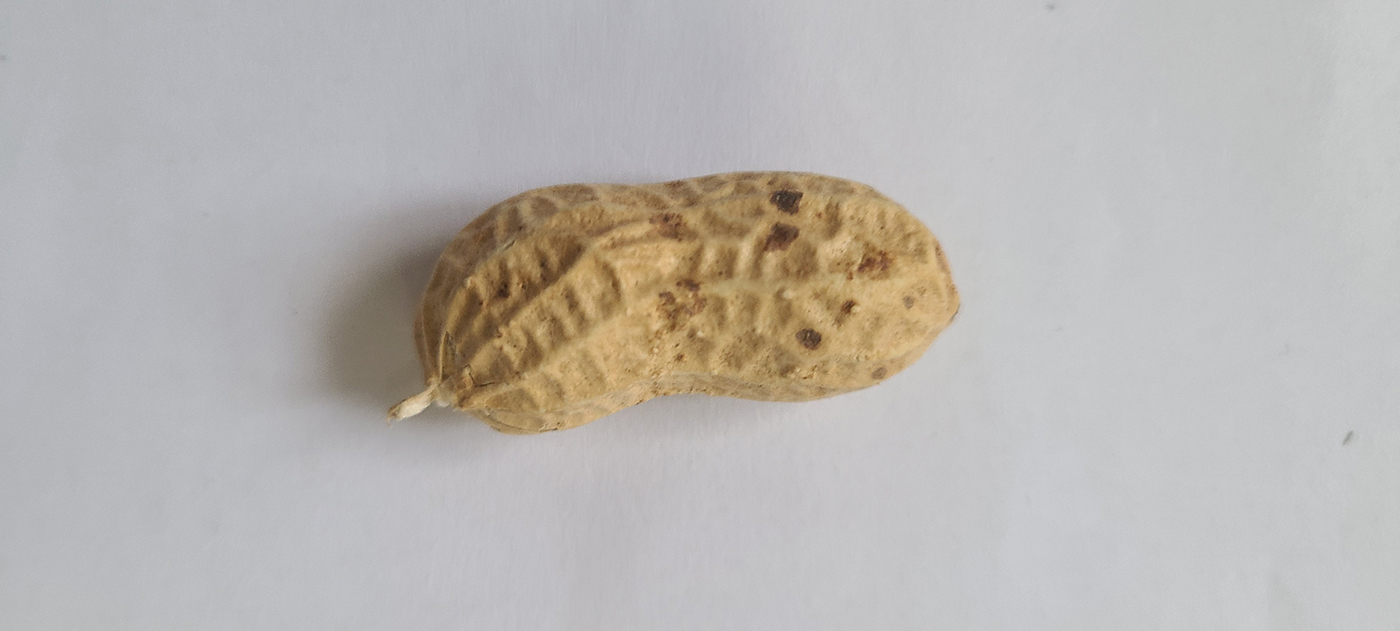h: (411, 169, 965, 437)
